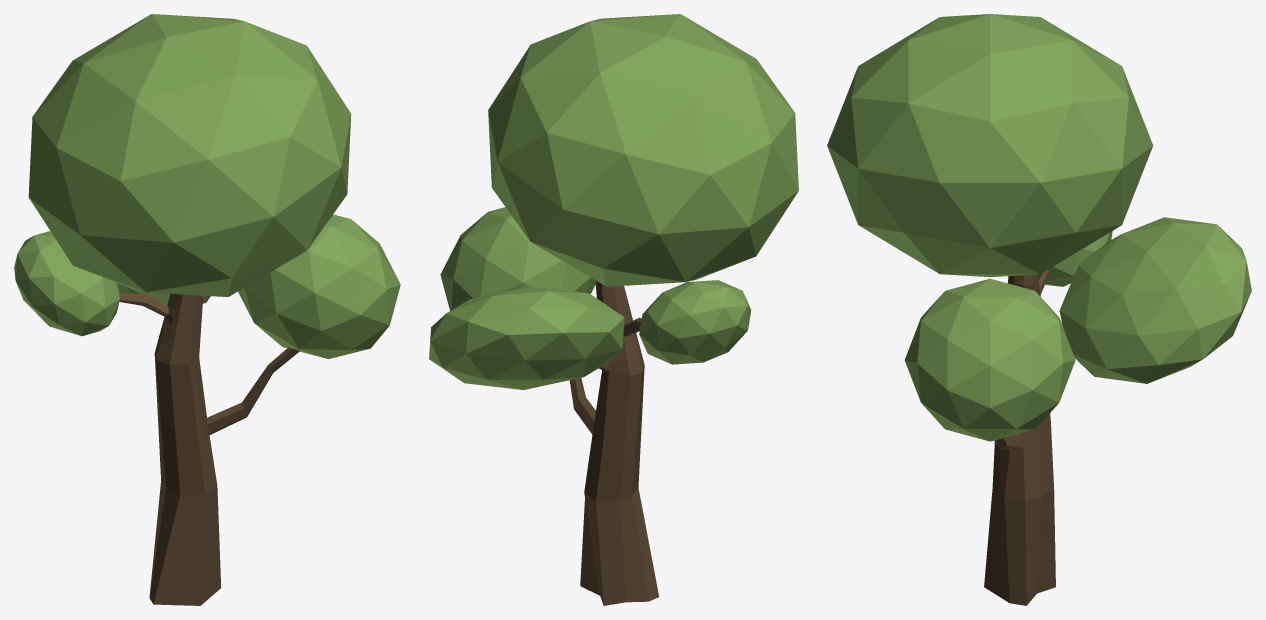
The model's file is MedisSuLapaisTamsus.glb.
The picture shows the model from 3 angles, left to right: view 1: azimuth 30°, elevation 25°; view 2: azimuth 150°, elevation 25°; view 3: azimuth 270°, elevation 25°; orthographic projection. The views are drawn at different scales.
Visible parts, largest first — view 1: MedisSuLapaisTamsus; view 2: MedisSuLapaisTamsus; view 3: MedisSuLapaisTamsus.
Boxes of the visible parts, x1,y1,x2,y2 form: MedisSuLapaisTamsus: (14, 14, 400, 605); MedisSuLapaisTamsus: (429, 14, 798, 605); MedisSuLapaisTamsus: (827, 14, 1251, 605).
Bounding box in the file's own units: 1.27 × 2.08 × 1.44.
